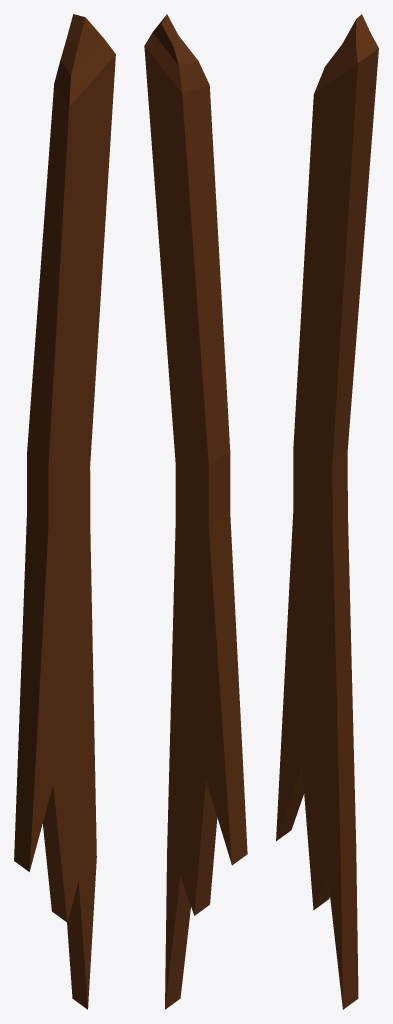
File: stick.glb
3 views of the same model, side by side, from view 1: azimuth 30°, elevation 25°; view 2: azimuth 150°, elevation 25°; view 3: azimuth 330°, elevation 25° (orthographic).
Parts seen in each view (by area): view 1: Cube; view 2: Cube; view 3: Cube.
Boxes of the visible parts, x1=… form: Cube: x1=14, y1=14, x2=115, y2=1009; Cube: x1=144, y1=14, x2=247, y2=1009; Cube: x1=276, y1=14, x2=378, y2=1009.
Size of the model in its own units: 0.058 by 0.6499 by 0.0279.
